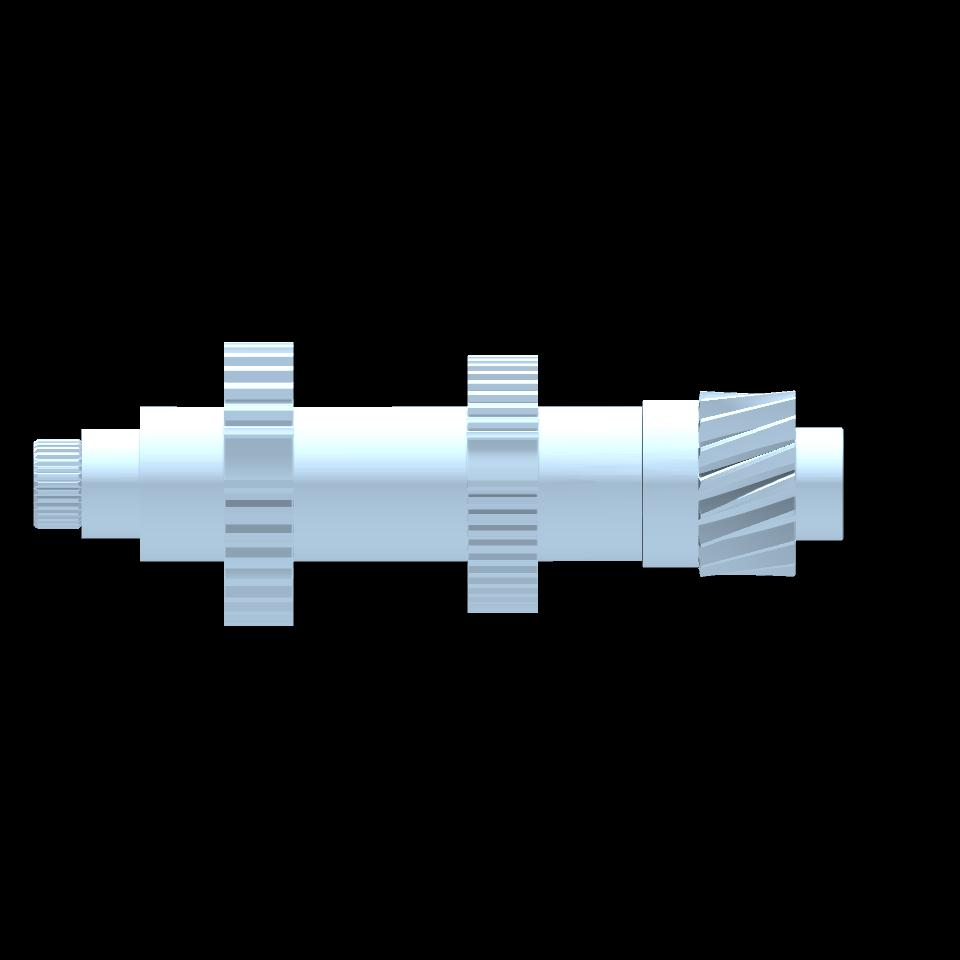Helical: (699, 390, 796, 578)
Straight: (224, 343, 293, 626), (467, 355, 537, 613), (37, 440, 79, 529)
